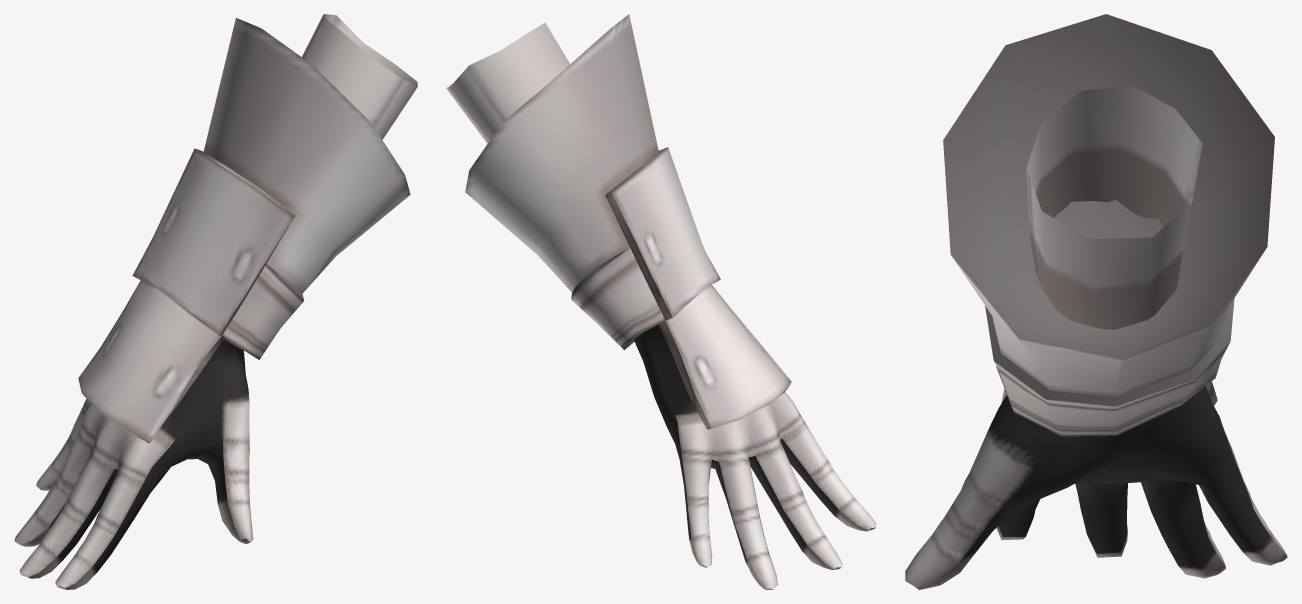
File: Lilit_Brazo_2.obj
The picture shows the model from 3 angles, left to right: view 1: azimuth 30°, elevation 25°; view 2: azimuth 150°, elevation 25°; view 3: azimuth 270°, elevation 25°; orthographic projection. The views are drawn at different scales.
Parts seen in each view (by area): view 1: 2_Mesh.001; view 2: 2_Mesh.001; view 3: 2_Mesh.001.
Part boxes in pixels (x1=…): 2_Mesh.001: x1=14, y1=14, x2=417, y2=589; 2_Mesh.001: x1=446, y1=14, x2=876, y2=589; 2_Mesh.001: x1=905, y1=14, x2=1287, y2=589.
Size of the model in its own units: 0.2071 by 0.2515 by 0.1249.
